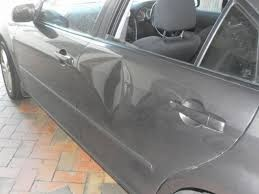Dent: (82, 52, 138, 115)
